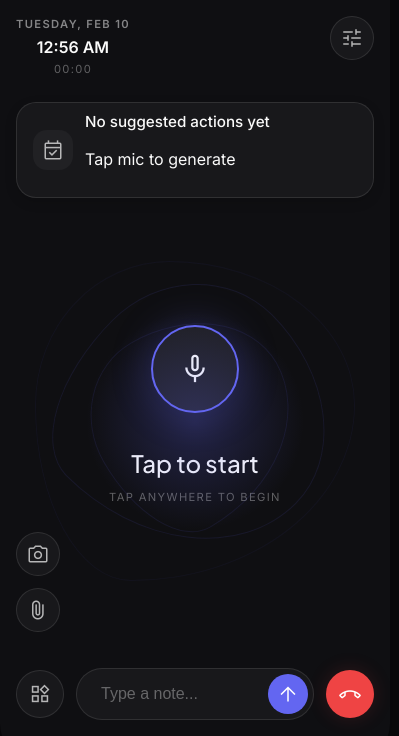
Test: Chat send note › sends a typed note on Send button click
Type "Click note" into the field with placeholder "Type a note..." at x=195, y=694, box [76,668,314,720]
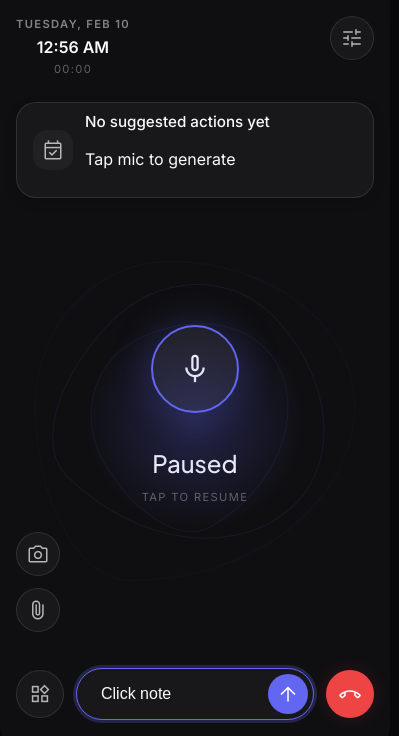
Click the button named "Send note" at x=288, y=694, box [268,674,308,714]
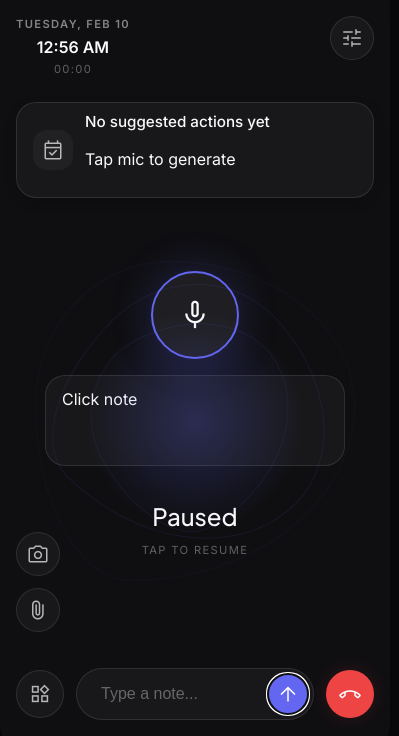
Expected: the text "Click note" is shown, [45,375,345,466]
